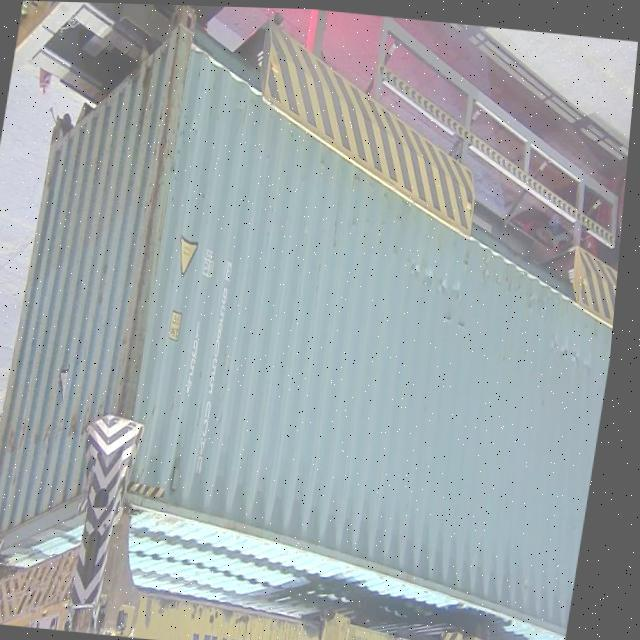rust: (116, 18, 201, 416)
